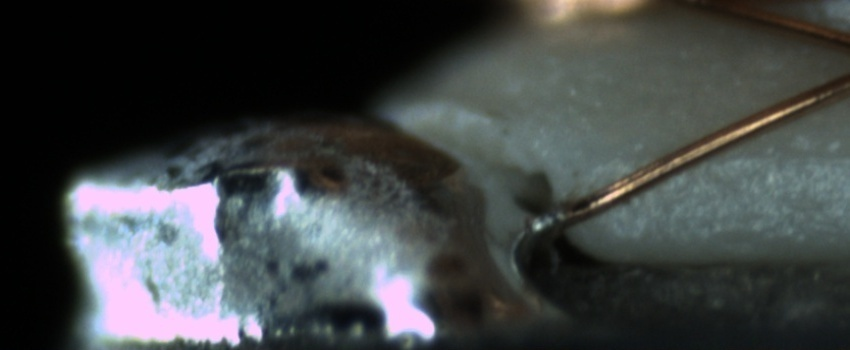DL: (695, 126, 850, 187)
